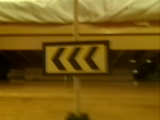left: (43, 43, 109, 75)
